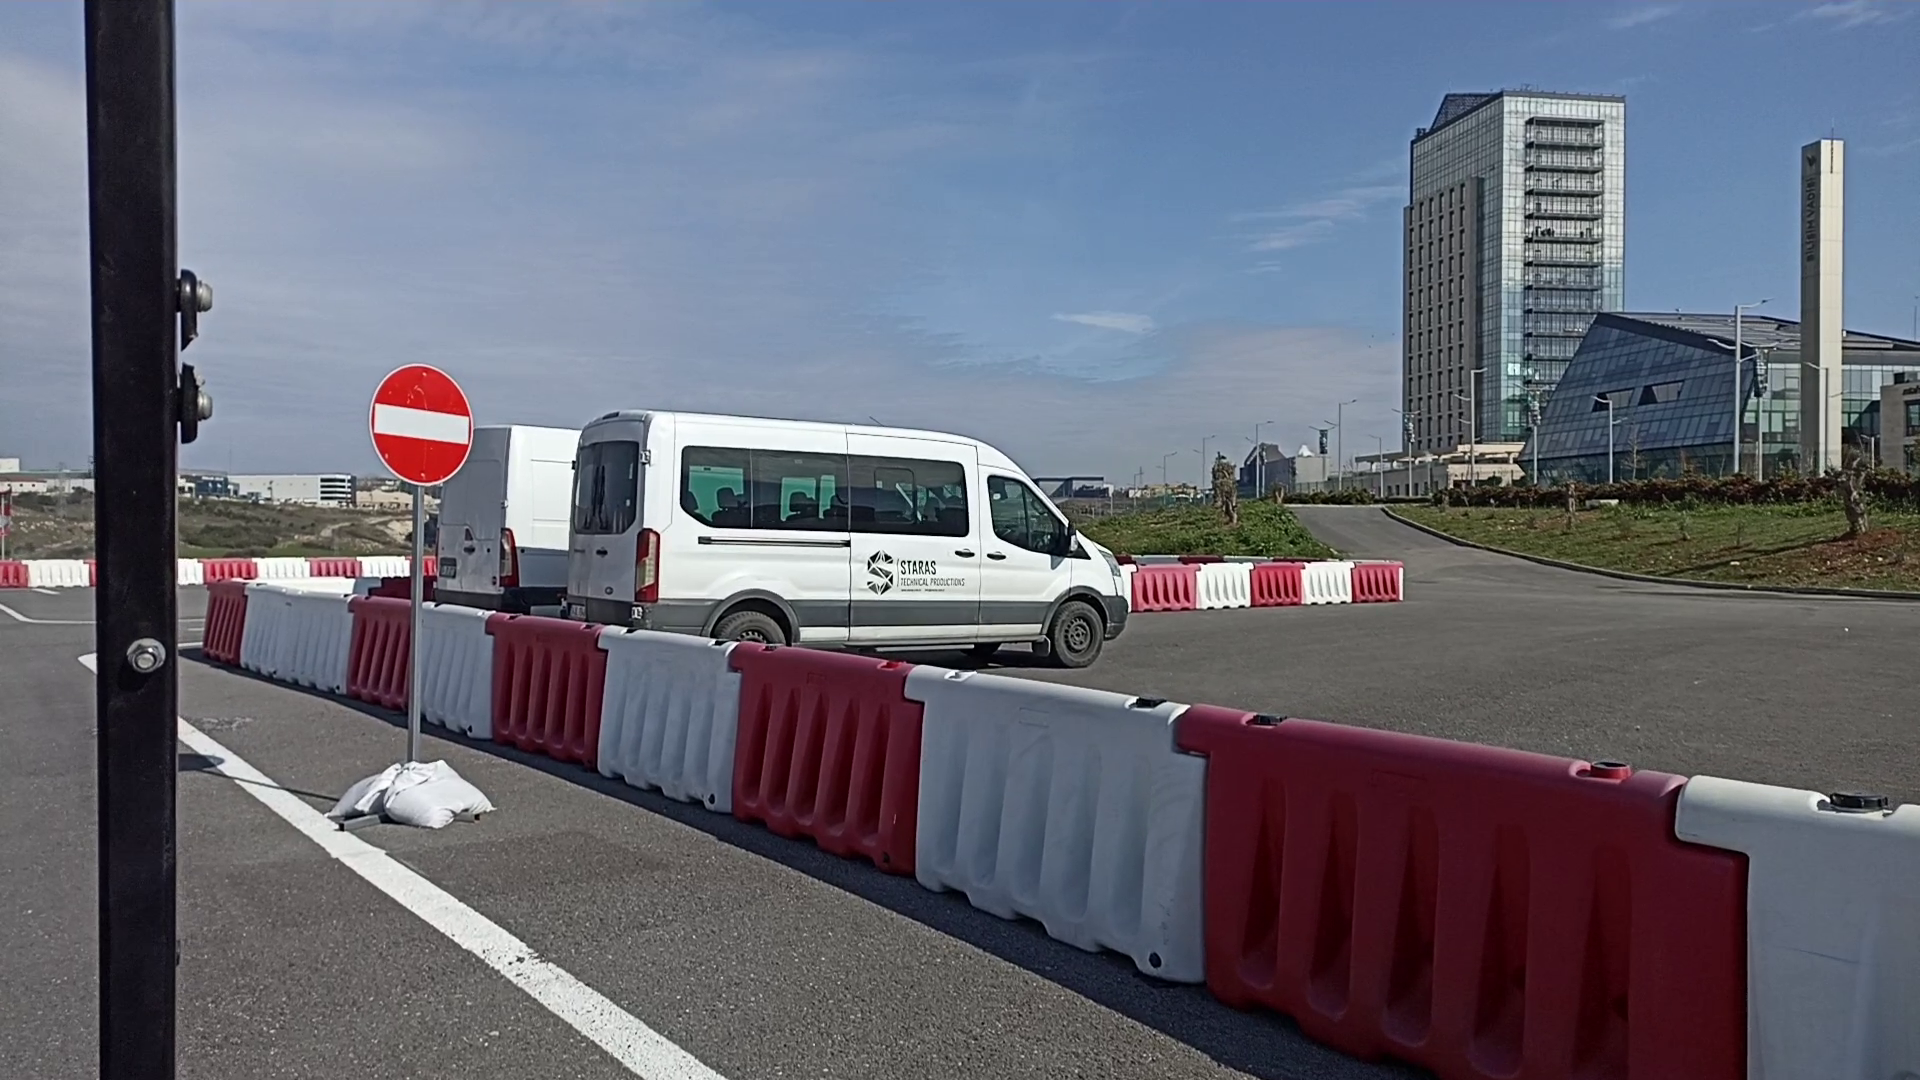noentryway: (367, 361, 473, 487)
